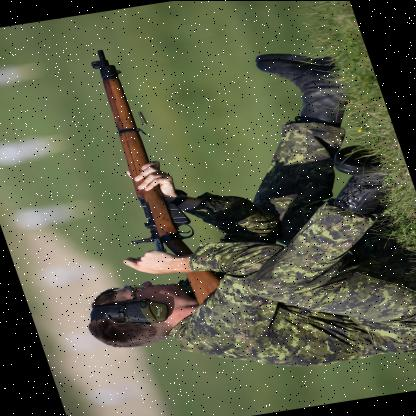rifle: (81, 38, 233, 310)
